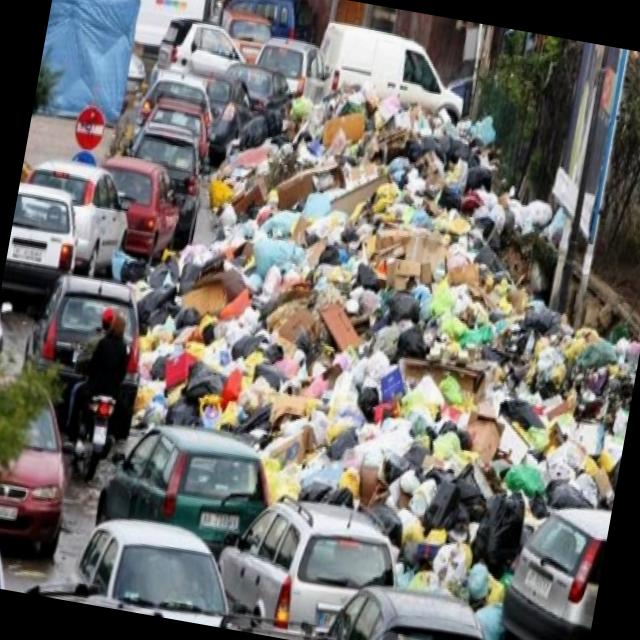garbage: (115, 64, 640, 613)
